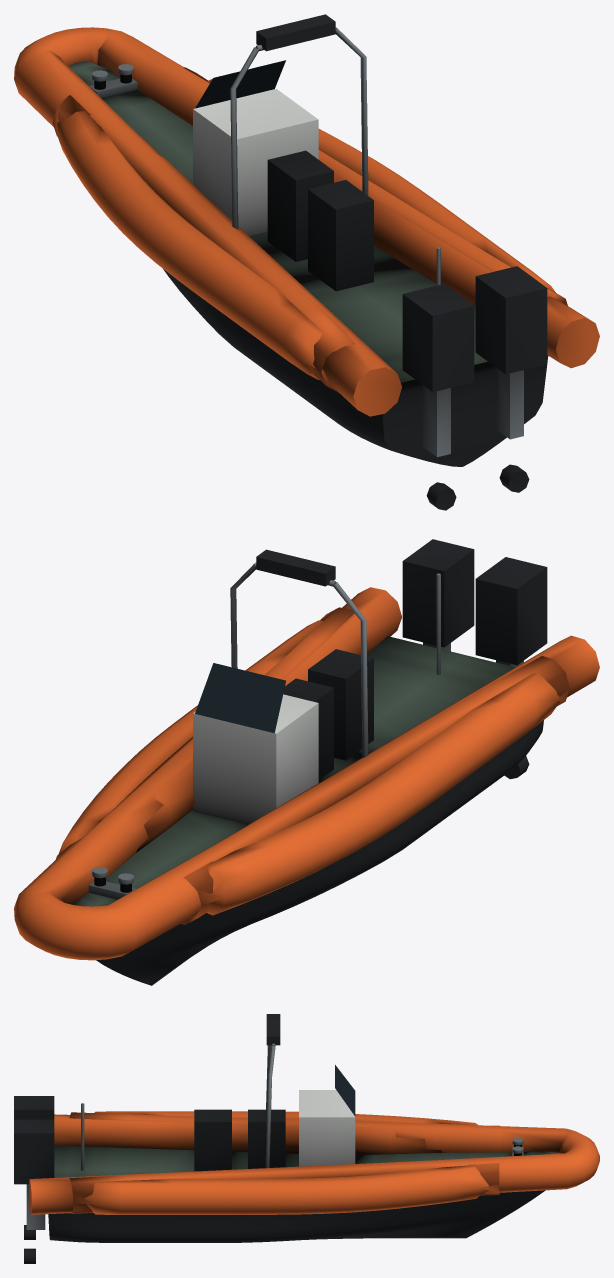
File: rib_LOD0.glb
3 renders of one model, top to bottom at view 1: azimuth 30°, elevation 25°; view 2: azimuth 150°, elevation 25°; view 3: azimuth 270°, elevation 25°, orthographic. The views are drawn at different scales.
Visible parts, largest first — view 1: Hull, Rubber, Deck, Superstructure, Machinery, Windows; view 2: Hull, Rubber, Deck, Superstructure, Windows, Machinery; view 3: Hull, Rubber, Deck, Superstructure, Machinery, Windows.
Boxes of the visible parts, x1=… form: Hull: x1=14, y1=27, x2=599, y2=416; Rubber: x1=163, y1=14, x2=548, y2=510; Deck: x1=70, y1=61, x2=487, y2=382; Superstructure: x1=193, y1=88, x2=318, y2=236; Machinery: x1=89, y1=27, x2=523, y2=457; Windows: x1=195, y1=60, x2=285, y2=108; Hull: x1=14, y1=587, x2=599, y2=960; Rubber: x1=96, y1=539, x2=547, y2=985; Deck: x1=73, y1=636, x2=514, y2=906; Superstructure: x1=193, y1=694, x2=318, y2=824; Windows: x1=195, y1=663, x2=285, y2=733; Machinery: x1=88, y1=562, x2=523, y2=899; Hull: x1=29, y1=1111, x2=599, y2=1214; Rubber: x1=14, y1=1014, x2=545, y2=1263; Deck: x1=54, y1=1145, x2=562, y2=1177; Superstructure: x1=299, y1=1090, x2=355, y2=1166; Machinery: x1=26, y1=1043, x2=523, y2=1229; Windows: x1=335, y1=1065, x2=355, y2=1116.
Size of the model in its own units: 2.94 by 3.73 by 8.75.
